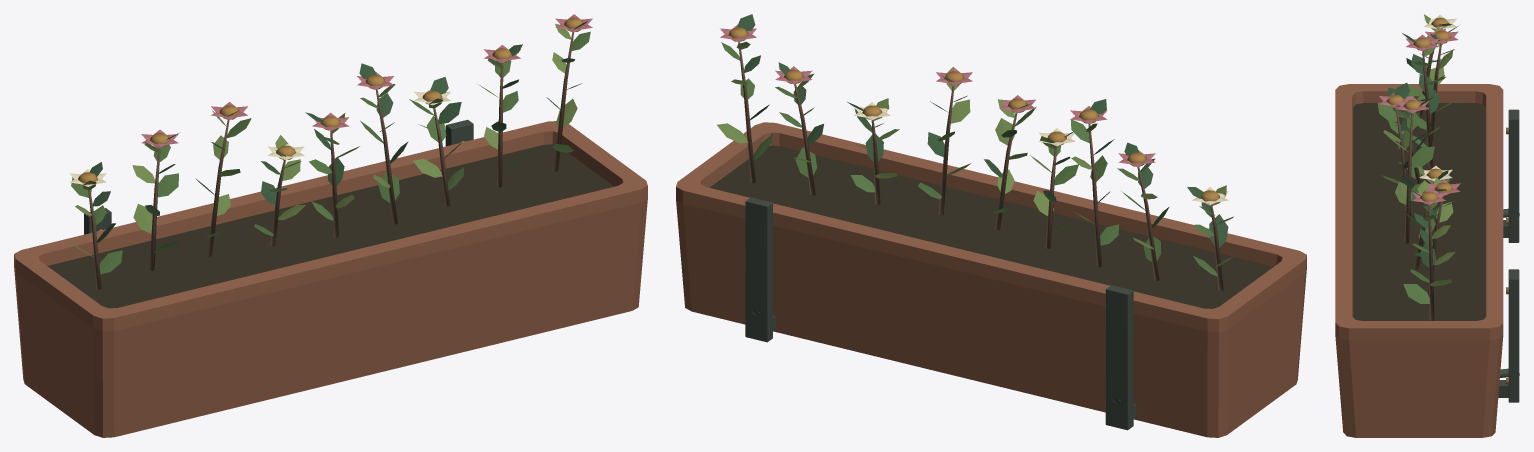
File: rpg-mansion-garden-wall-window-flower-box-01.glb
3 views of the same model, side by side, from view 1: azimuth 30°, elevation 25°; view 2: azimuth 150°, elevation 25°; view 3: azimuth 270°, elevation 25° (orthographic). The views are drawn at different scales.
Parts seen in each view (by area): view 1: rpg-mansion-garden-wall-window-flower-box-01; view 2: rpg-mansion-garden-wall-window-flower-box-01; view 3: rpg-mansion-garden-wall-window-flower-box-01.
Part boxes in pixels (x1,y1,x2,y2): rpg-mansion-garden-wall-window-flower-box-01: (14,14,647,437); rpg-mansion-garden-wall-window-flower-box-01: (676,14,1306,437); rpg-mansion-garden-wall-window-flower-box-01: (1335,14,1519,437).
Bounding box in the file's own units: 1.1 × 0.5043 × 0.351.
